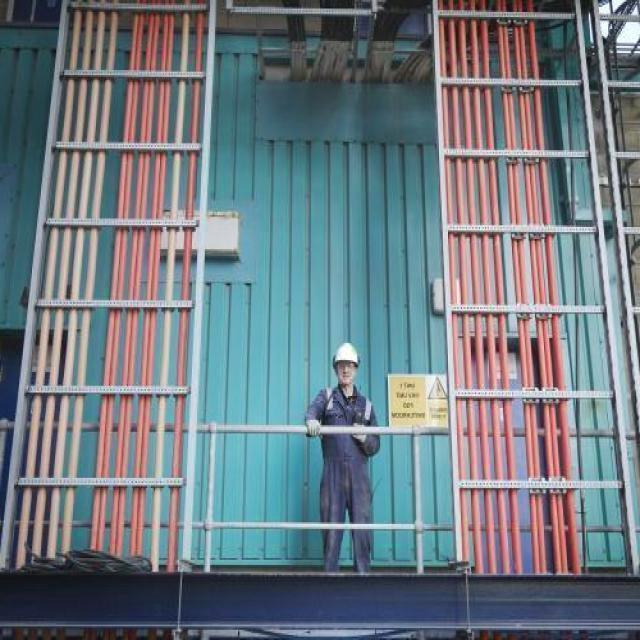face_nomask: (336, 359, 357, 383)
hand_glove: (305, 417, 324, 437)
head_helmet: (332, 340, 362, 368)
person: (310, 338, 382, 577)
